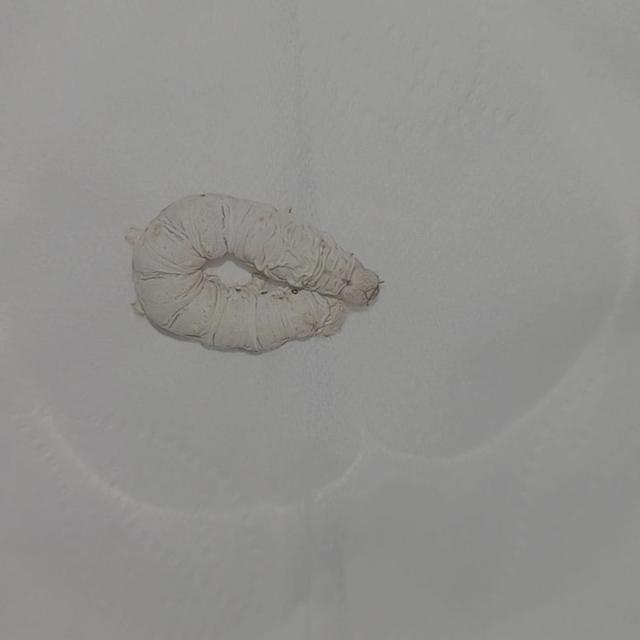Healthy: (114, 176, 392, 364)
